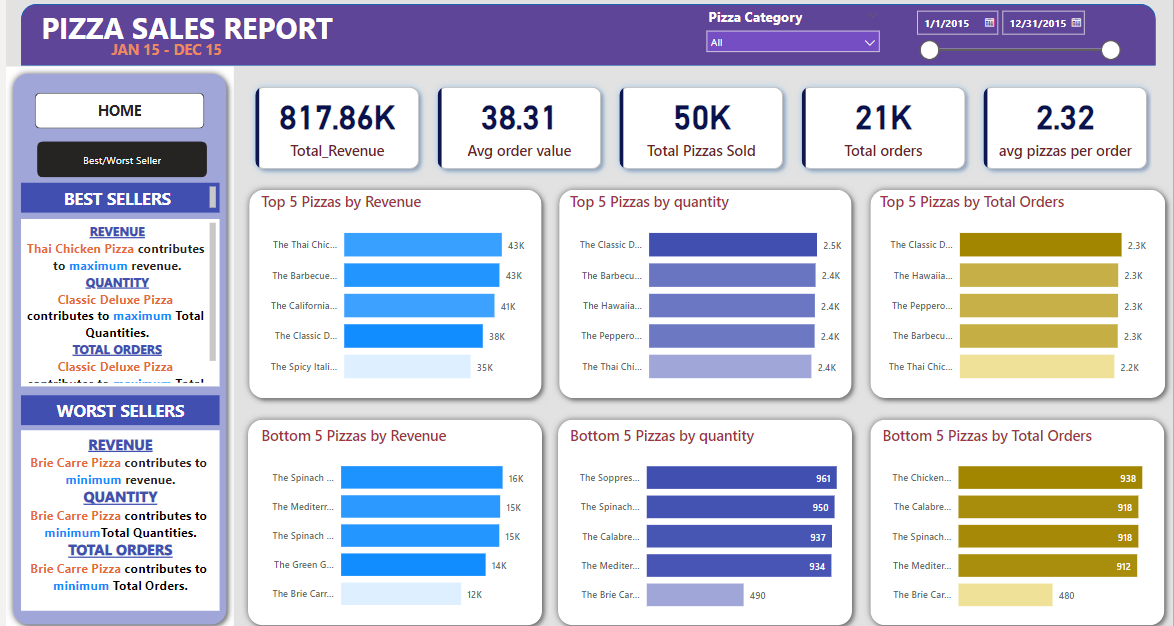

The dashboard page shown, as its layout file describes it:
{"tool":"powerbi","page":{"name":"Best/Worst Seller","canvas":[1500,820],"ordinal":1},"visuals":[{"type":"cardVisual","fields":{"Data":["pizza_sales.Total_Revenue","pizza_sales.Avg order value","pizza_sales.Total Pizzas Sold","pizza_sales.Total orders","pizza_sales.avg pizzas per order"]},"box":[303.2,103.2,1174.6,139.7],"z":0},{"type":"shape","box":[19,12.7,1458.7,79.4],"z":1000},{"type":"textbox","box":[39.7,12.7,400,66.7],"z":2000},{"type":"textbox","box":[130.2,52.4,173,39.7],"z":3000},{"type":"shape","box":[303.7,242.6,393.6,286],"z":4000},{"type":"shape","box":[702.1,242.6,393.6,286],"z":5000},{"type":"shape","box":[302.2,538.4,396,282],"z":6000},{"type":"shape","box":[1101.6,538.4,395.6,282],"z":7000},{"type":"shape","box":[700.5,538.4,396,282],"z":8000},{"type":"shape","box":[0,93.2,292.4,726.2],"z":9000},{"type":"textbox","box":[19.3,242.6,255.5,38],"z":10000},{"type":"textbox","box":[19.3,289.2,255.5,215.3],"z":11000},{"type":"textbox","box":[19.3,515.7,255.5,38.6],"z":12000},{"type":"textbox","box":[19,560.3,255.6,231.7],"z":13000},{"type":"slicer","fields":{"Values":["pizza_sales.pizza_category"]},"box":[890.5,12.7,242.9,77.8],"z":14000},{"type":"slicer","fields":{"Values":["pizza_sales.order_date"]},"box":[1158.7,11.1,282.5,79.4],"z":15000},{"type":"shape","box":[1102.9,243.1,397,285.7],"z":16000},{"type":"barChart","title":"Top 5 Pizzas by Revenue","fields":{"Category":["pizza_sales.pizza_name"],"Y":["pizza_sales.Total_Revenue"]},"box":[322.9,253.9,396.9,261.9],"z":17000},{"type":"barChart","title":"Bottom 5 Pizzas by Revenue","fields":{"Category":["pizza_sales.pizza_name"],"Y":["pizza_sales.Total_Revenue"]},"box":[322.9,554.3,379.2,252.3],"z":18000},{"type":"barChart","title":"Top 5 Pizzas by quantity","fields":{"Category":["pizza_sales.pizza_name"],"Y":["Sum(pizza_sales.quantity)"]},"box":[719.8,253.9,376,261.9],"z":19000},{"type":"barChart","title":"Bottom 5 Pizzas by quantity","fields":{"Category":["pizza_sales.pizza_name"],"Y":["Sum(pizza_sales.quantity)"]},"box":[719.8,554.3,363.1,253.9],"z":20000},{"type":"barChart","title":"Top 5 Pizzas by Total Orders","fields":{"Category":["pizza_sales.pizza_name"],"Y":["pizza_sales.Total orders"]},"box":[1118.3,253.9,380.8,261.9],"z":21000},{"type":"barChart","title":"Bottom 5 Pizzas by Total Orders","fields":{"Category":["pizza_sales.pizza_name"],"Y":["pizza_sales.Total orders"]},"box":[1121.5,554.3,359.9,253.9],"z":22000},{"type":"pageNavigator","box":[40.2,189.6,218.5,46],"z":22001},{"type":"pageNavigator","box":[37,126.9,218.5,46.6],"z":22002}]}

Visuals, with their boxes in screenshot pixels (x1, y1, x2, y2), scaled from the page's 1500x820 canvas onto the 1174x626 screenshot:
cardVisual - pizza_sales.Total_Revenue x pizza_sales.Avg order value: pyautogui.locateOnScreen(237, 79, 1157, 185)
shape: pyautogui.locateOnScreen(15, 10, 1157, 70)
textbox: pyautogui.locateOnScreen(31, 10, 344, 61)
textbox: pyautogui.locateOnScreen(102, 40, 237, 70)
shape: pyautogui.locateOnScreen(238, 185, 546, 404)
shape: pyautogui.locateOnScreen(550, 185, 858, 404)
shape: pyautogui.locateOnScreen(237, 411, 546, 625)
shape: pyautogui.locateOnScreen(862, 411, 1172, 625)
shape: pyautogui.locateOnScreen(548, 411, 858, 625)
shape: pyautogui.locateOnScreen(0, 71, 229, 625)
textbox: pyautogui.locateOnScreen(15, 185, 215, 214)
textbox: pyautogui.locateOnScreen(15, 221, 215, 385)
textbox: pyautogui.locateOnScreen(15, 394, 215, 423)
textbox: pyautogui.locateOnScreen(15, 428, 215, 605)
slicer - pizza_sales.pizza_category: pyautogui.locateOnScreen(697, 10, 887, 69)
slicer - pizza_sales.order_date: pyautogui.locateOnScreen(907, 8, 1128, 69)
shape: pyautogui.locateOnScreen(863, 186, 1173, 404)
"Top 5 Pizzas by Revenue" barChart: pyautogui.locateOnScreen(253, 194, 563, 394)
"Bottom 5 Pizzas by Revenue" barChart: pyautogui.locateOnScreen(253, 423, 550, 616)
"Top 5 Pizzas by quantity" barChart: pyautogui.locateOnScreen(563, 194, 858, 394)
"Bottom 5 Pizzas by quantity" barChart: pyautogui.locateOnScreen(563, 423, 848, 617)
"Top 5 Pizzas by Total Orders" barChart: pyautogui.locateOnScreen(875, 194, 1173, 394)
"Bottom 5 Pizzas by Total Orders" barChart: pyautogui.locateOnScreen(878, 423, 1159, 617)
pageNavigator: pyautogui.locateOnScreen(31, 145, 202, 180)
pageNavigator: pyautogui.locateOnScreen(29, 97, 200, 132)
